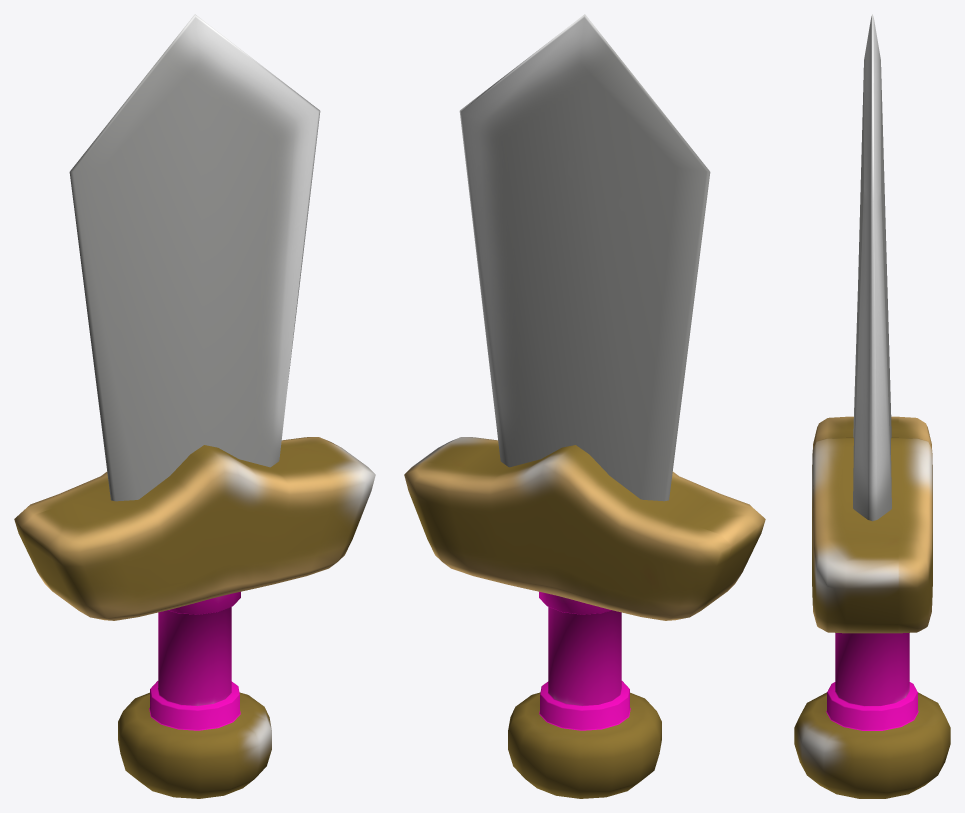
The model's file is sword bronze.fbx.
3 views of the same model, side by side, from view 1: azimuth 30°, elevation 25°; view 2: azimuth 150°, elevation 25°; view 3: azimuth 270°, elevation 25° (orthographic).
Parts seen in each view (by area): view 1: sword bronze.007; view 2: sword bronze.007; view 3: sword bronze.007.
Part boxes in pixels (x1,y1,x2,y2): sword bronze.007: [14, 14, 375, 798]; sword bronze.007: [404, 14, 765, 798]; sword bronze.007: [794, 14, 950, 798].
Size of the model in its own units: 58.52 by 133 by 24.63.
1 material, 1 textured.
